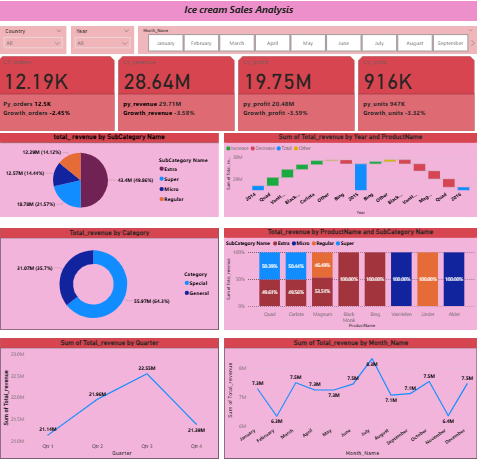

The page's visual inventory and layout, read from the dashboard file:
{"tool":"powerbi","page":{"name":"Page 2","canvas":[1400,1400],"ordinal":1},"visuals":[{"type":"textbox","box":[10,30,1270,40],"z":0},{"type":"slicer","fields":{"Values":["Geography.Country"]},"box":[16.7,91.7,158.3,70],"z":1000},{"type":"slicer","fields":{"Values":["Date_Master.Date.Variation.Date Hierarchy.Year"]},"box":[186.2,91.2,157.5,70],"z":2000},{"type":"slicer","fields":{"Values":["Date_Master.Month_Name"]},"box":[366.7,91.7,836.7,70],"z":3000},{"type":"cardVisual","fields":{"Data":["Calculations.CY_orders","Calculations.Cy_revenue","Calculations.Cy_profit","Calculations.Cy_units"]},"box":[0,183.3,1223.3,161.7],"z":8000},{"type":"pieChart","title":"total_ revenue by SubCategory Name","fields":{"Y":["Sum(Final_sales.Total_revenue)"],"Category":["Sub categories.SubCategory Name"]},"box":[10,360,546.7,210],"z":9000},{"type":"donutChart","title":"Total_revenue by Category","fields":{"Y":["Sum(Final_sales.Total_revenue)"],"Category":["dCategory.Category"]},"box":[10,596.7,546.7,255],"z":10000},{"type":"waterfallChart","fields":{"Y":["Sum(Final_sales.Total_revenue)"],"Category":["Date_Master.Date.Variation.Date Hierarchy.Year"],"Breakdown":["Product.ProductName"]},"box":[570,360,633.3,210],"z":11000},{"type":"hundredPercentStackedColumnChart","title":" Total_revenue by ProductName and SubCategory Name","fields":{"Category":["Product.ProductName"],"Y":["Sum(Final_sales.Total_revenue)"],"Series":["Sub categories.SubCategory Name"]},"box":[570,596.7,633.3,255],"z":12000},{"type":"lineChart","fields":{"Category":["Date_Master.Date.Variation.Date Hierarchy.Quarter"],"Y":["Sum(Final_sales.Total_revenue)"]},"box":[10,873.3,546.7,301.7],"z":13000},{"type":"lineChart","fields":{"Category":["Date_Master.Month_Name","Date_Master.Date.Variation.Date Hierarchy.Quarter"],"Y":["Sum(Final_sales.Total_revenue)"]},"box":[570,873.3,633.3,301.7],"z":14000}]}

Visuals, with their boxes on the page's 1400x1400 design canvas (x1, y1, x2, y2). These are canvas units, not pixel positions in the 477x460 screenshot, which may show the page scaled, cropped or inside an application window:
textbox: [10, 30, 1280, 70]
slicer - Geography.Country: [17, 92, 175, 162]
slicer - Date_Master.Date.Variation.Date Hierarchy.Year: [186, 91, 344, 161]
slicer - Date_Master.Month_Name: [367, 92, 1203, 162]
cardVisual - Calculations.CY_orders x Calculations.Cy_revenue: [0, 183, 1223, 345]
"total_ revenue by SubCategory Name" pieChart: [10, 360, 557, 570]
"Total_revenue by Category" donutChart: [10, 597, 557, 852]
waterfallChart - Sum(Final_sales.Total_revenue) x Date_Master.Date.Variation.Date Hierarchy.Year: [570, 360, 1203, 570]
" Total_revenue by ProductName and SubCategory Name" hundredPercentStackedColumnChart: [570, 597, 1203, 852]
lineChart - Date_Master.Date.Variation.Date Hierarchy.Quarter x Sum(Final_sales.Total_revenue): [10, 873, 557, 1175]
lineChart - Date_Master.Month_Name x Date_Master.Date.Variation.Date Hierarchy.Quarter: [570, 873, 1203, 1175]
